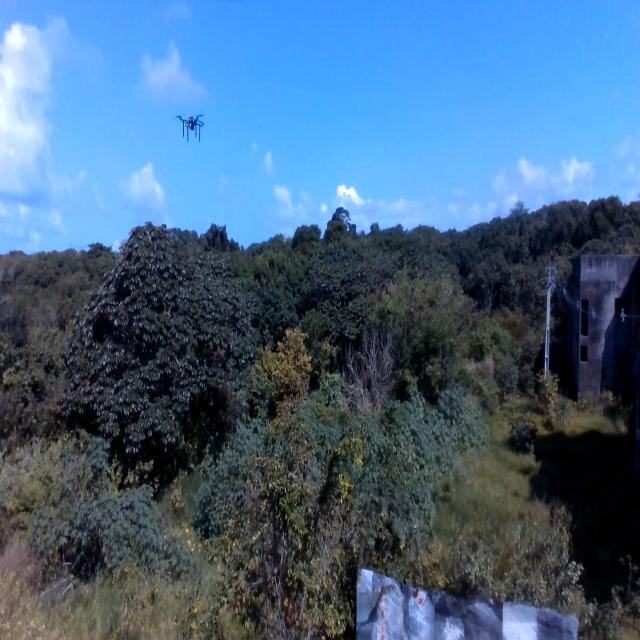-uav-: (173, 101, 209, 149)
